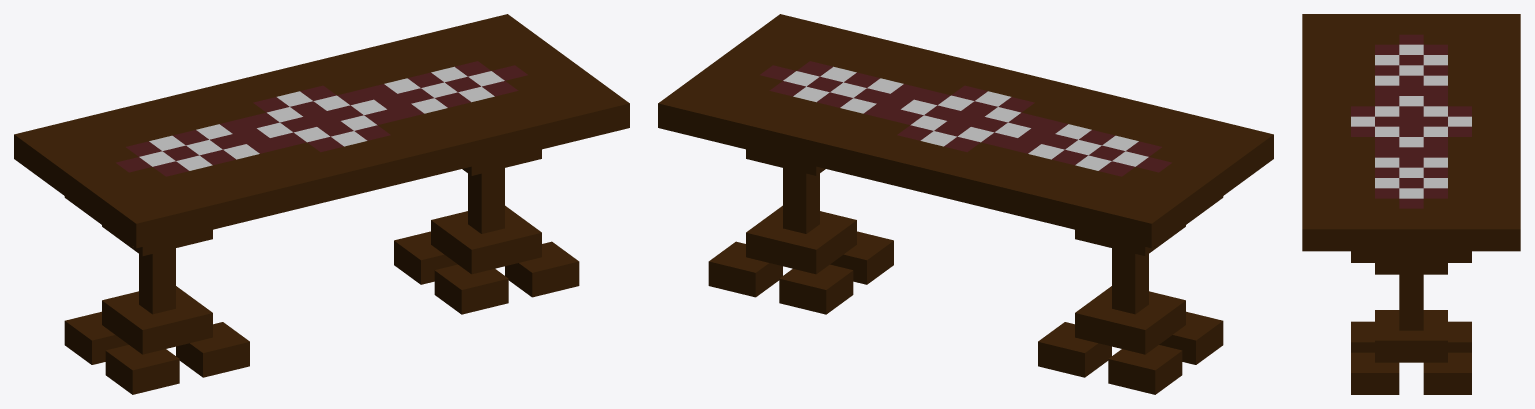
The model's file is BigTable1wDecoration.obj.
3 renders of one model, left to right at view 1: azimuth 30°, elevation 25°; view 2: azimuth 150°, elevation 25°; view 3: azimuth 270°, elevation 25°, orthographic. The views are drawn at different scales.
Visible parts, largest first — view 1: BigTable1wDecoration; view 2: BigTable1wDecoration; view 3: BigTable1wDecoration.
Part boxes in pixels (left/top/right/bottom): BigTable1wDecoration: left=14, top=14, right=629, bottom=394; BigTable1wDecoration: left=658, top=14, right=1273, bottom=394; BigTable1wDecoration: left=1302, top=14, right=1520, bottom=394.
Size of the model in its own units: 21 by 8 by 9.
1 material, 1 textured.
